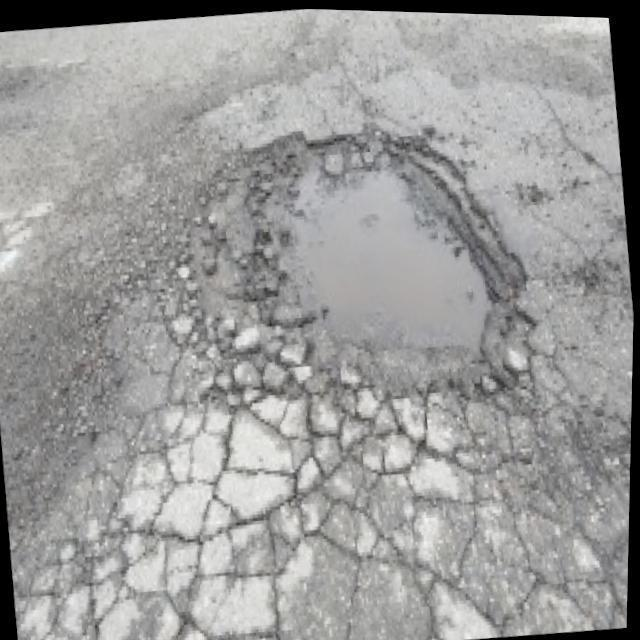Pothole: (194, 132, 528, 399)
